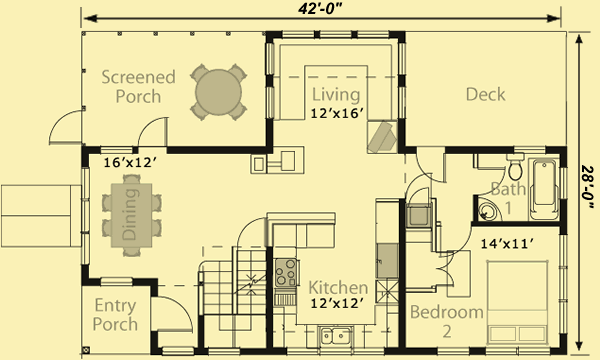bathroom has a tub space, small and large sinks: (469, 146, 567, 225)
bedroom has a double bed: (400, 223, 568, 356)
hall had a dining table for eating and sitting: (80, 144, 198, 280)
kitchen has a cooking range, twin sink and other cooking appliances: (267, 197, 408, 354)
